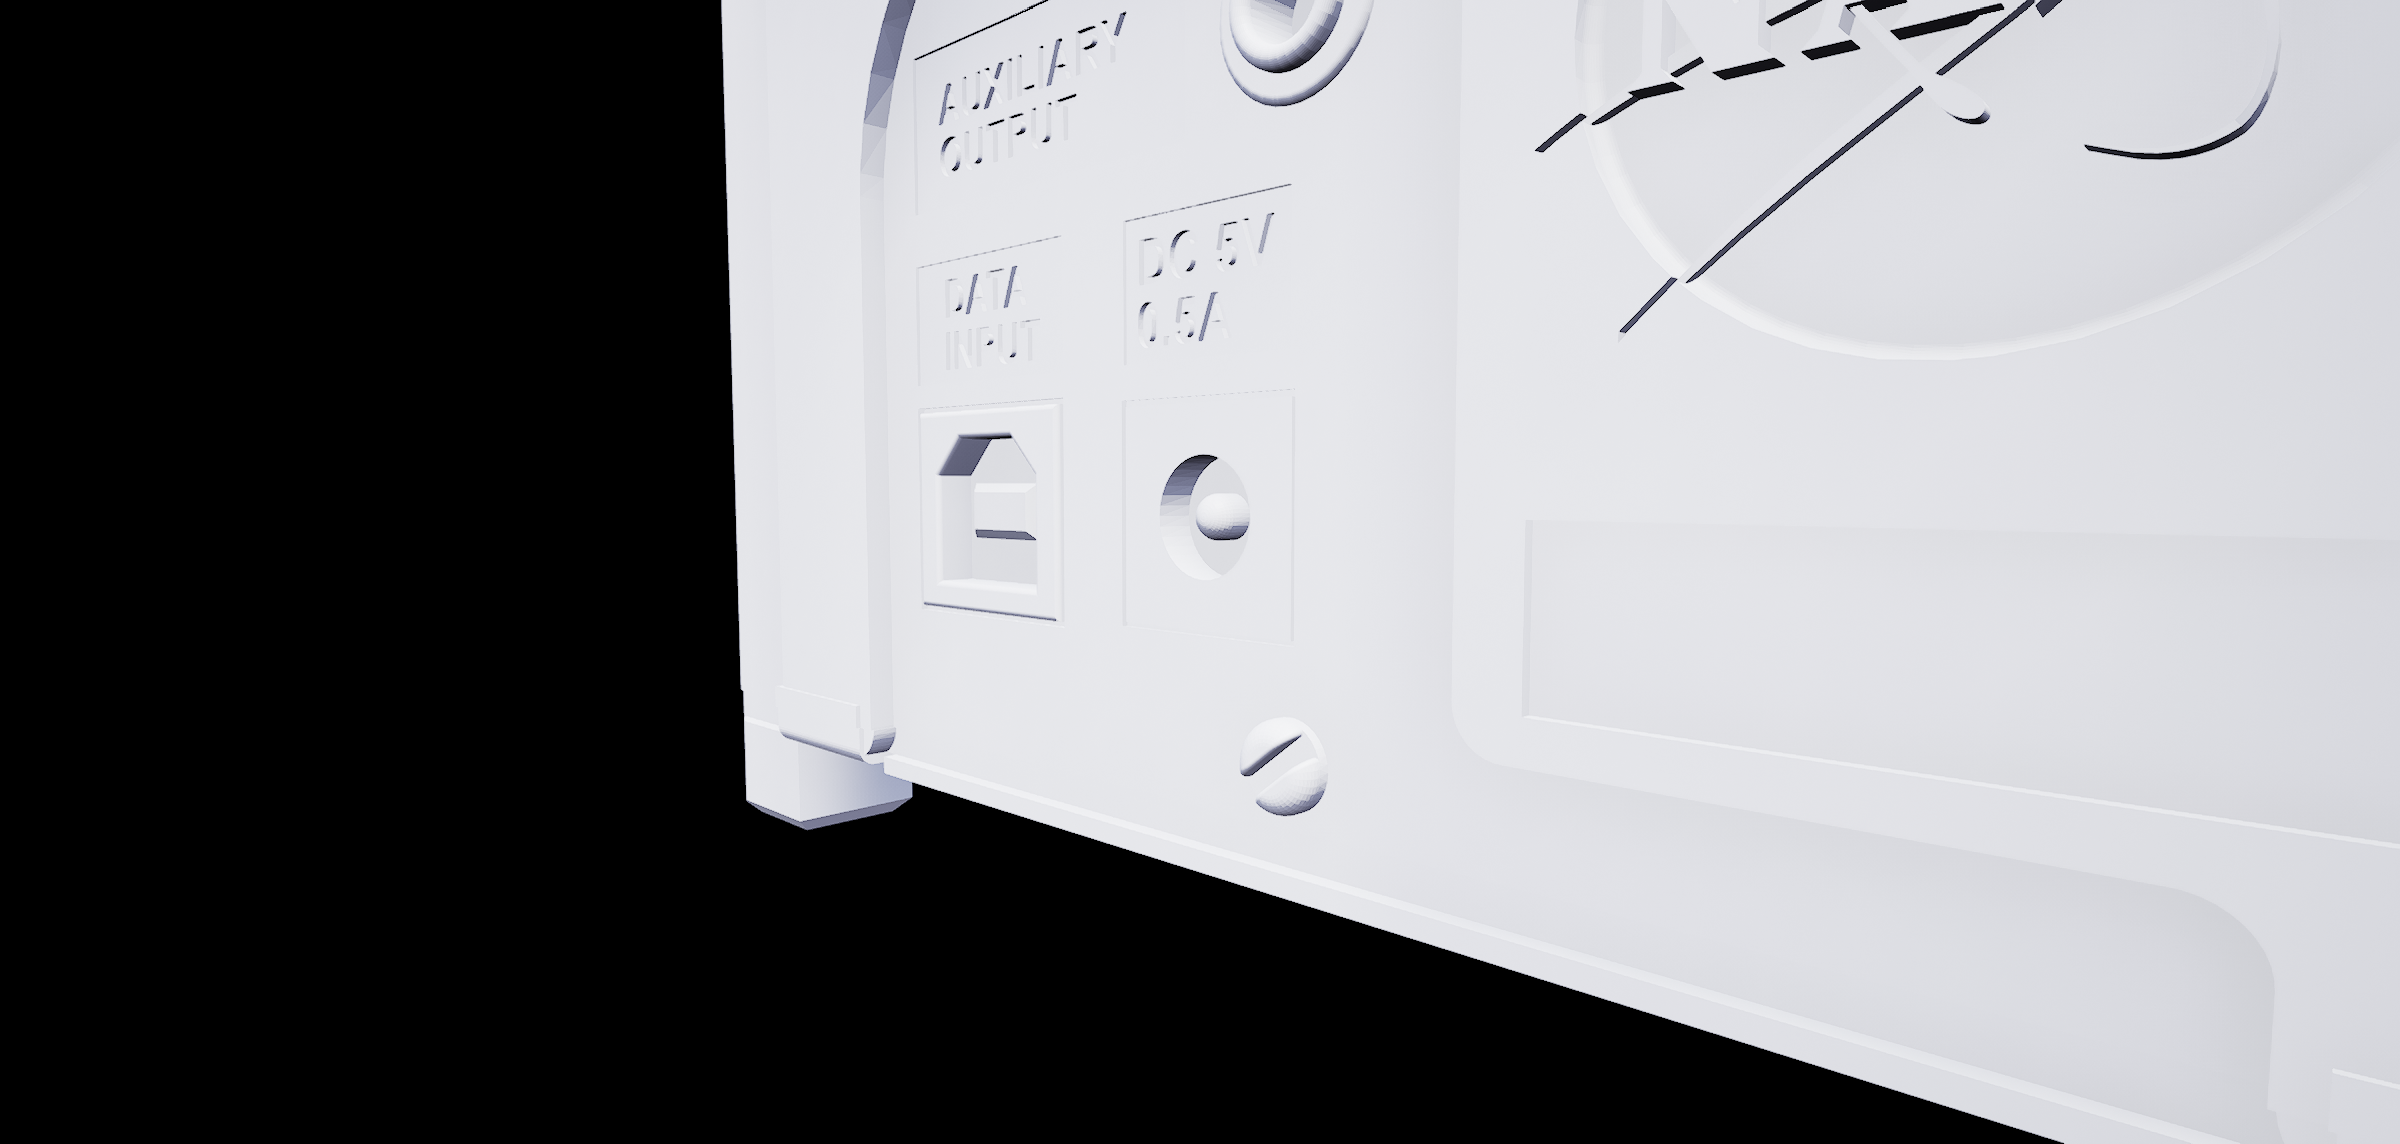aux: (1209, 2, 1388, 113)
dc: (1156, 441, 1266, 599)
usb: (937, 426, 1052, 608)
